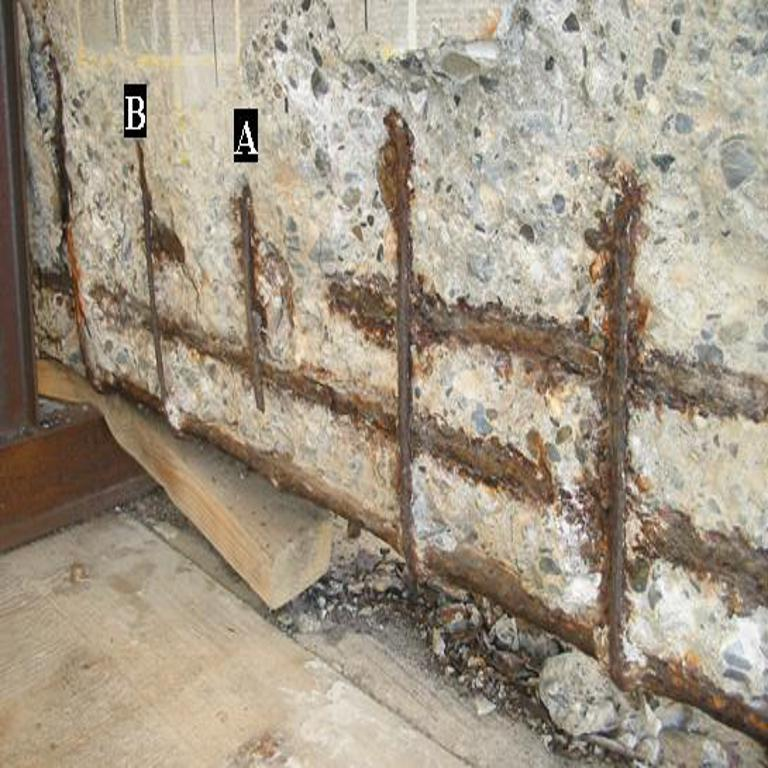exposed_rebar: (158, 318, 540, 500), (333, 276, 768, 423), (182, 416, 399, 549), (592, 159, 645, 686), (422, 544, 600, 656), (378, 108, 418, 597), (638, 506, 768, 606), (633, 658, 768, 745), (136, 142, 168, 408), (238, 183, 266, 412), (120, 384, 156, 407)
spalling: (26, 0, 768, 742)
